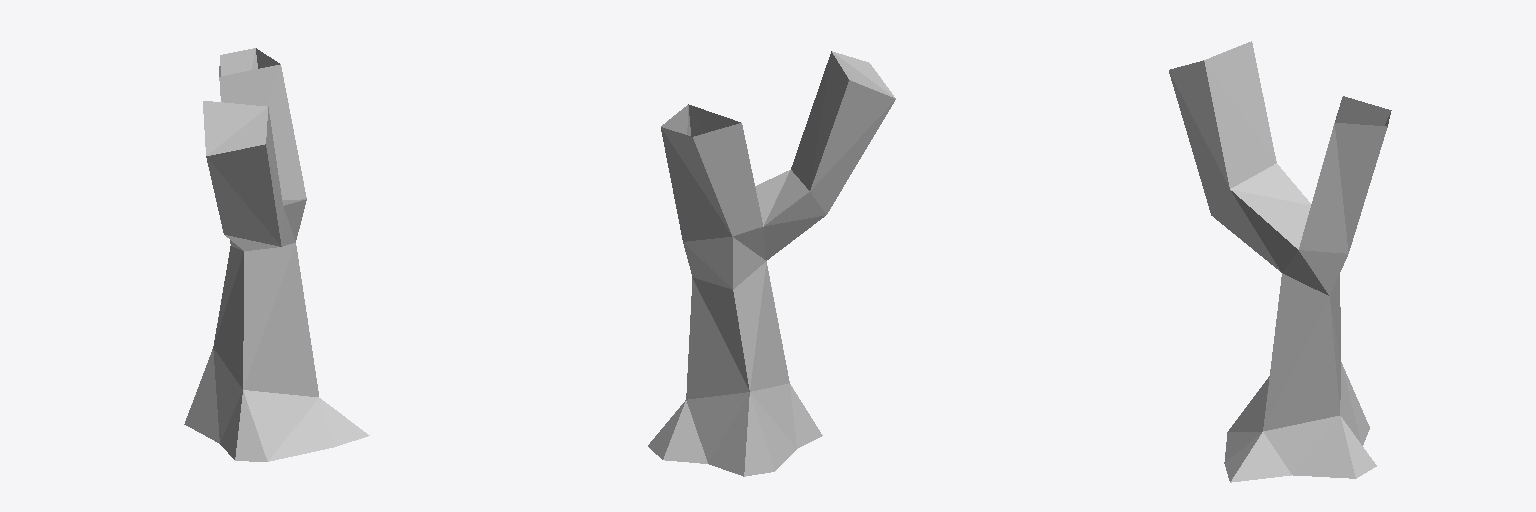
The model's file is st_tree_trunk_1.obj.
The picture shows the model from 3 angles: view 1: azimuth 30°, elevation 25°; view 2: azimuth 150°, elevation 25°; view 3: azimuth 270°, elevation 25°; orthographic projection.
Visible parts, largest first — view 1: TreeTrunk_Plane.003; view 2: TreeTrunk_Plane.003; view 3: TreeTrunk_Plane.003.
Boxes of the visible parts, <box> form: TreeTrunk_Plane.003: <box>184,48,369,461</box>; TreeTrunk_Plane.003: <box>648,51,895,476</box>; TreeTrunk_Plane.003: <box>1169,41,1391,482</box>.
Bounding box in the file's own units: 1.14 × 2.24 × 1.24.